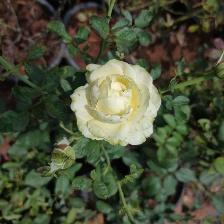rose: (71, 60, 162, 149)
